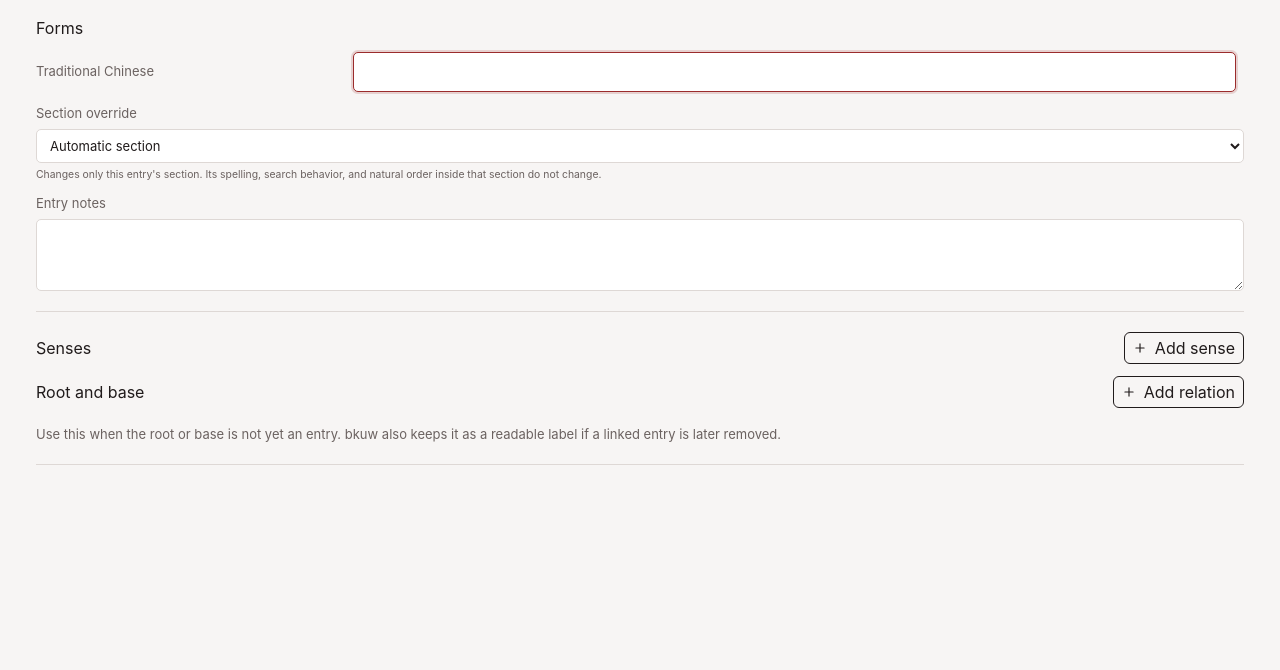
Test: EntryEditor › creates an example with the primary form and limits forms to configured systems
Click the button "Add sense" at (1184, 348), box [1124, 332, 1244, 364]
(page scrolled)
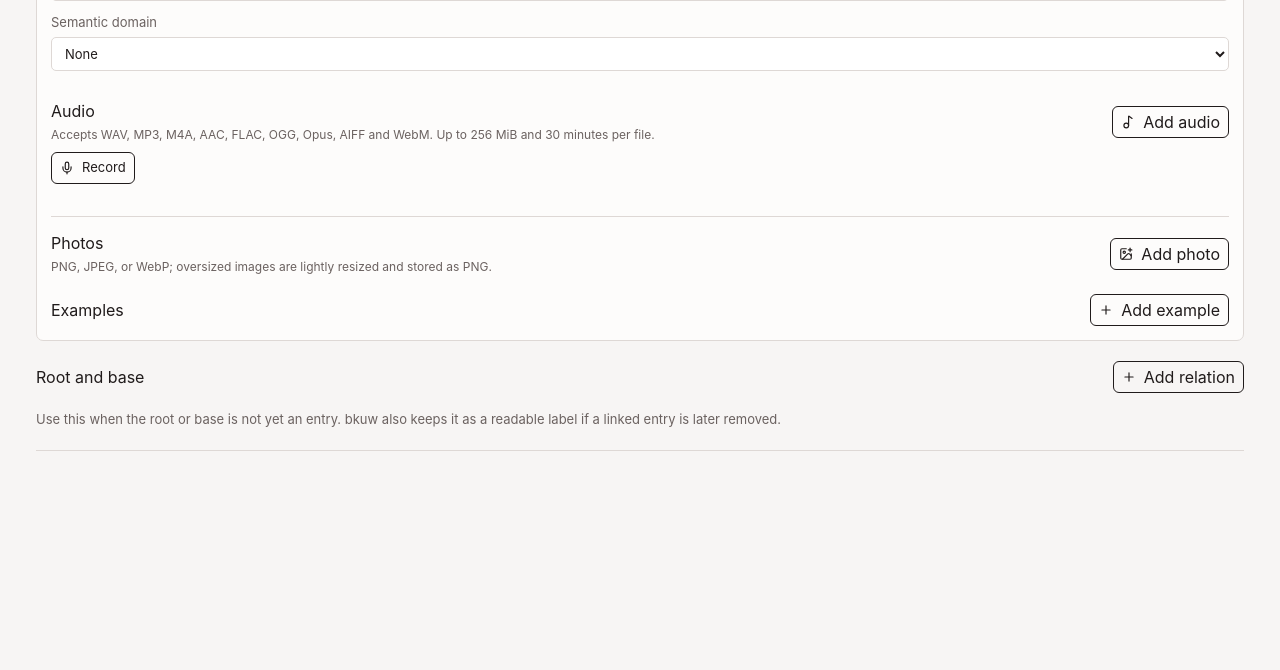
Click the button "Add example" at (1160, 310), box [1090, 294, 1229, 326]
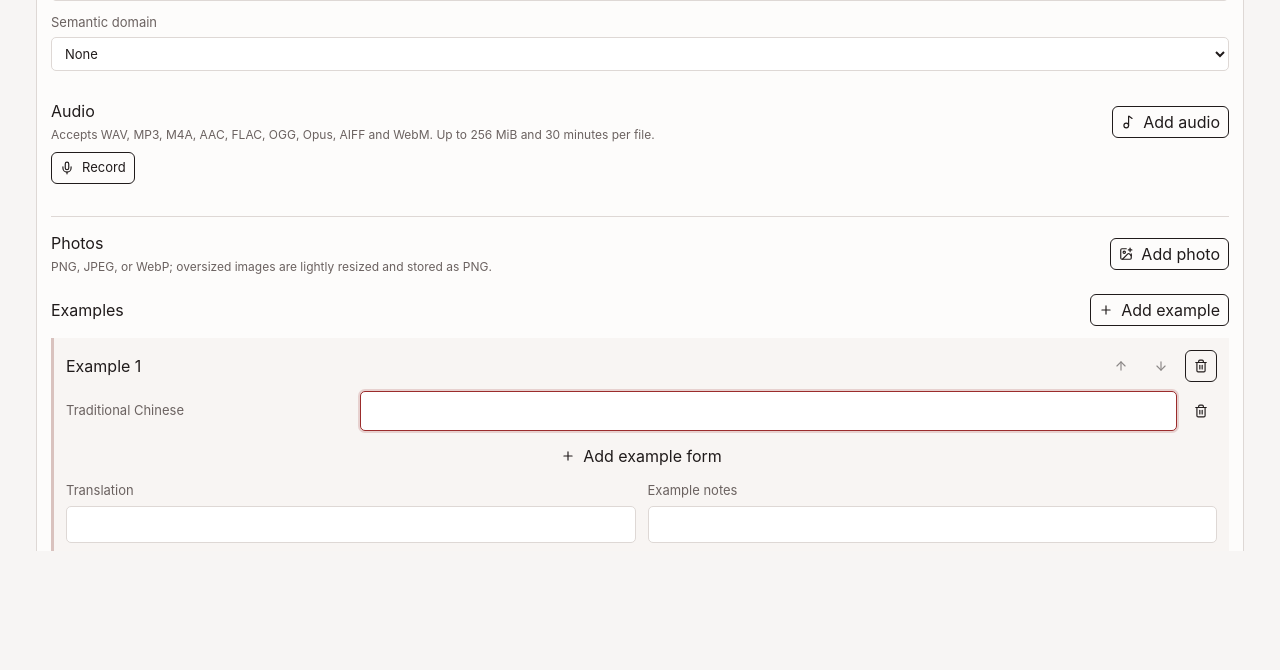
Expected: the button "Add example form" is enabled
Click the button "Add example form" at (642, 456), box [66, 440, 1217, 472]
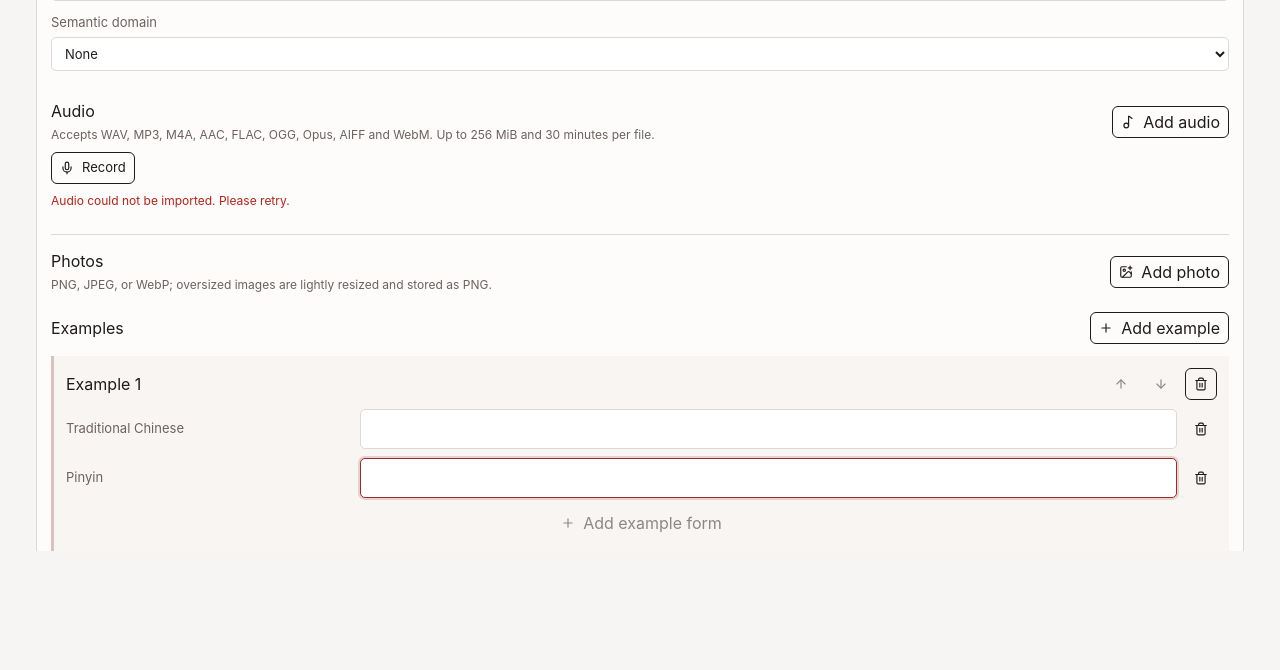
Expected: the button "Add example form" is disabled, [66, 507, 1217, 539]
